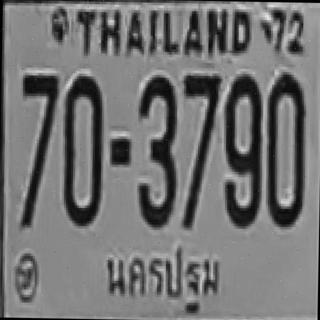N00: (61, 73, 102, 224), (223, 71, 261, 167)
N03: (135, 73, 177, 226), (135, 93, 176, 225)
N07: (19, 72, 57, 158), (182, 73, 220, 153)
N09: (222, 105, 261, 225)
P28: (96, 235, 231, 320)
